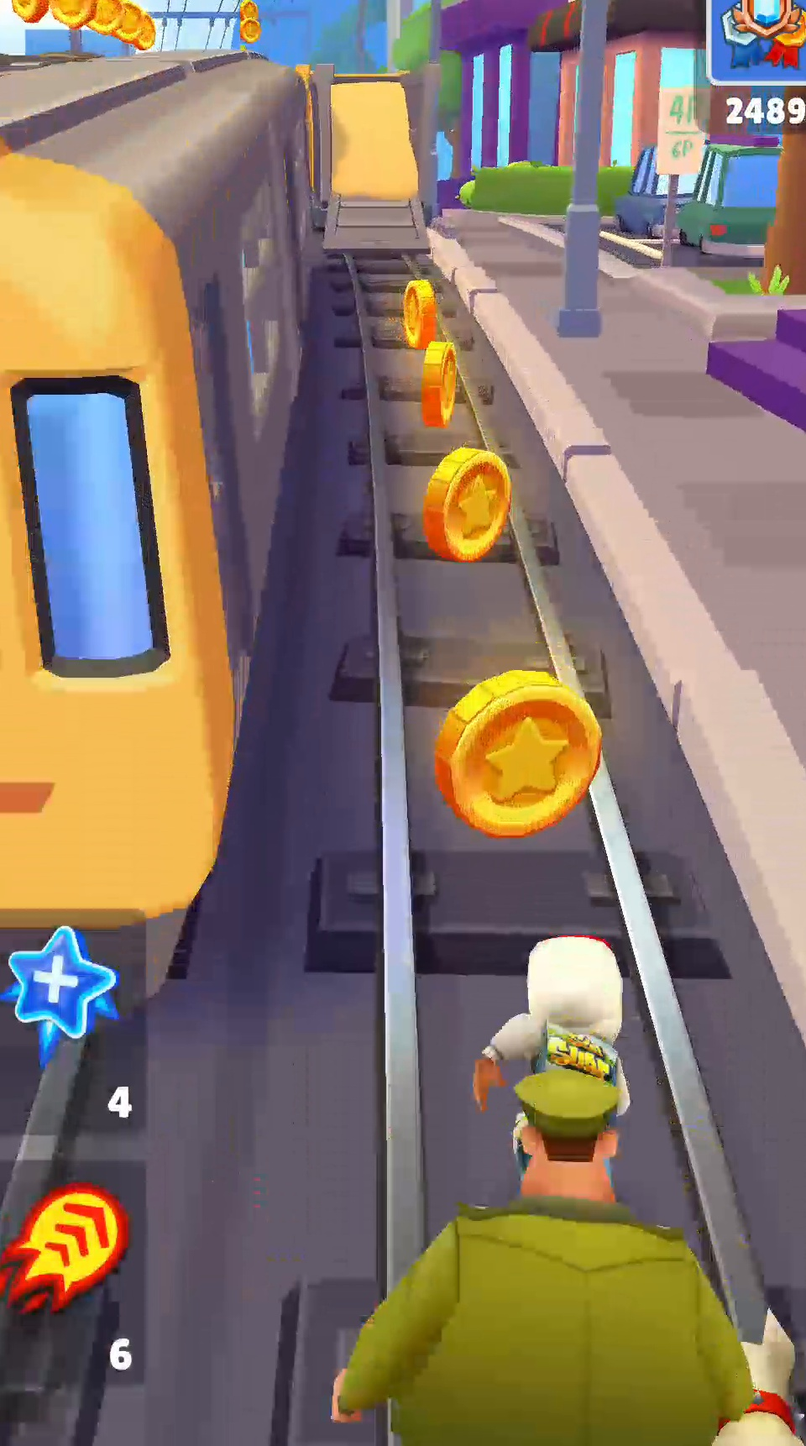climber: (323, 76, 427, 253)
police: (332, 1069, 753, 1445)
train: (0, 52, 311, 1019)
